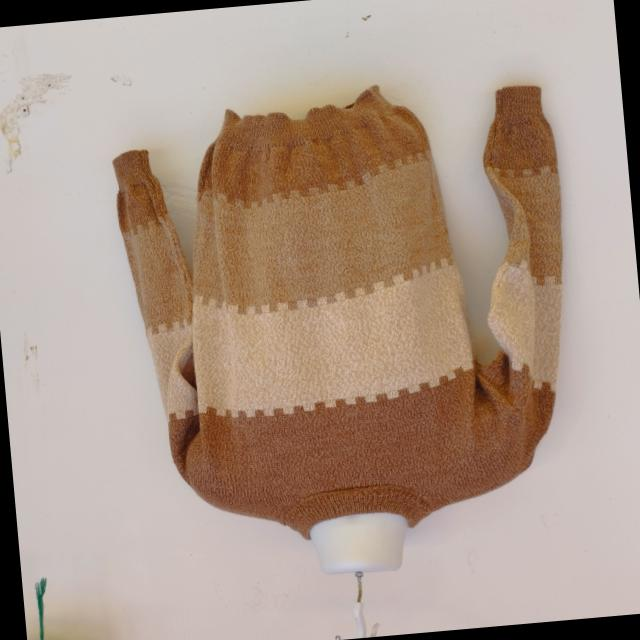Chompa: (106, 70, 593, 592)
